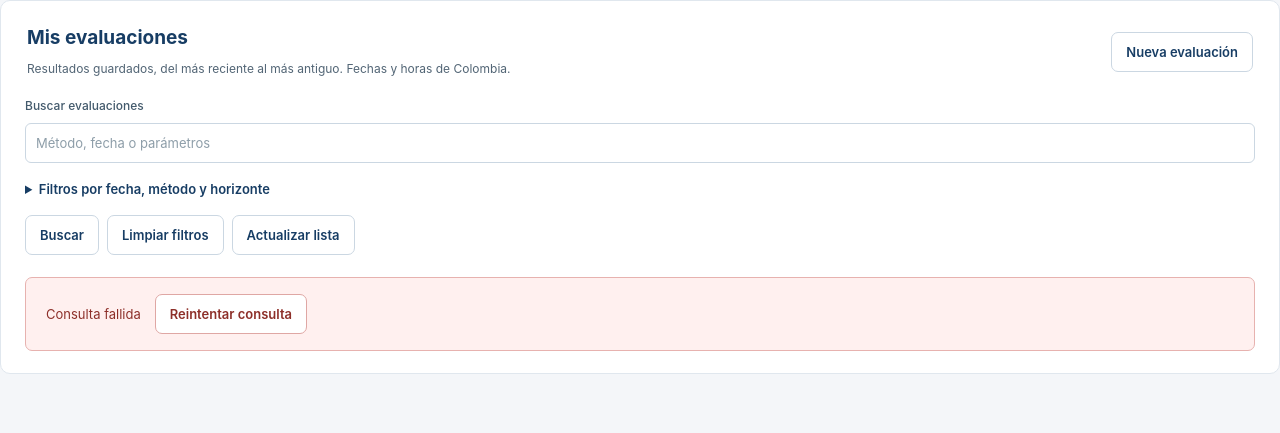
Test: distingue un historial vacío de un error y permite reintentar
Expected: the message shows "Consulta fallida", [46,306,141,322]
Expected: the text "Aún no hay evaluaciones" is not shown
Click the button "Reintentar consulta".
click(231, 314)  # box [155,294,307,334]
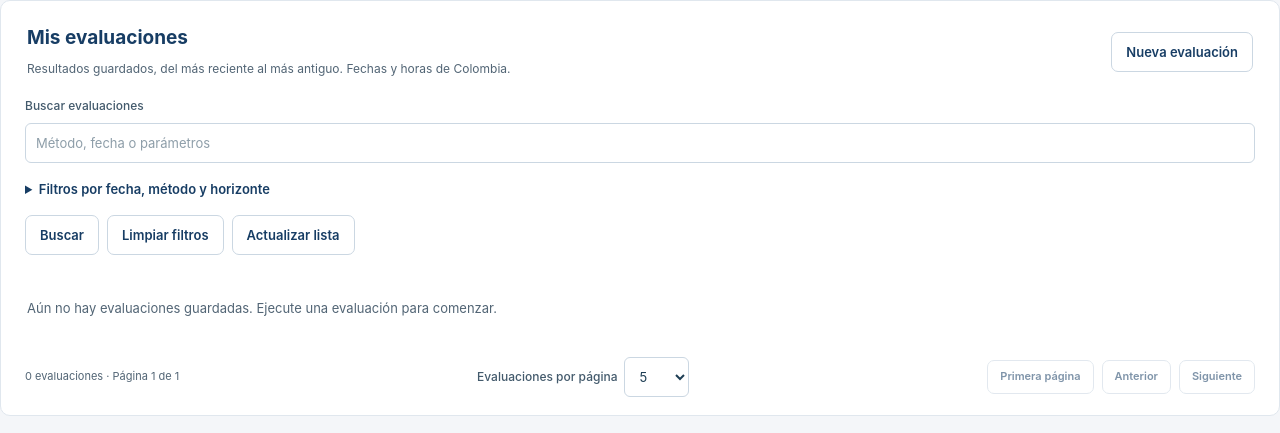
Expected: the text "Aún no hay evaluaciones guardadas. Ejecute una evaluación para comenzar." is shown, [27,300,497,316]
